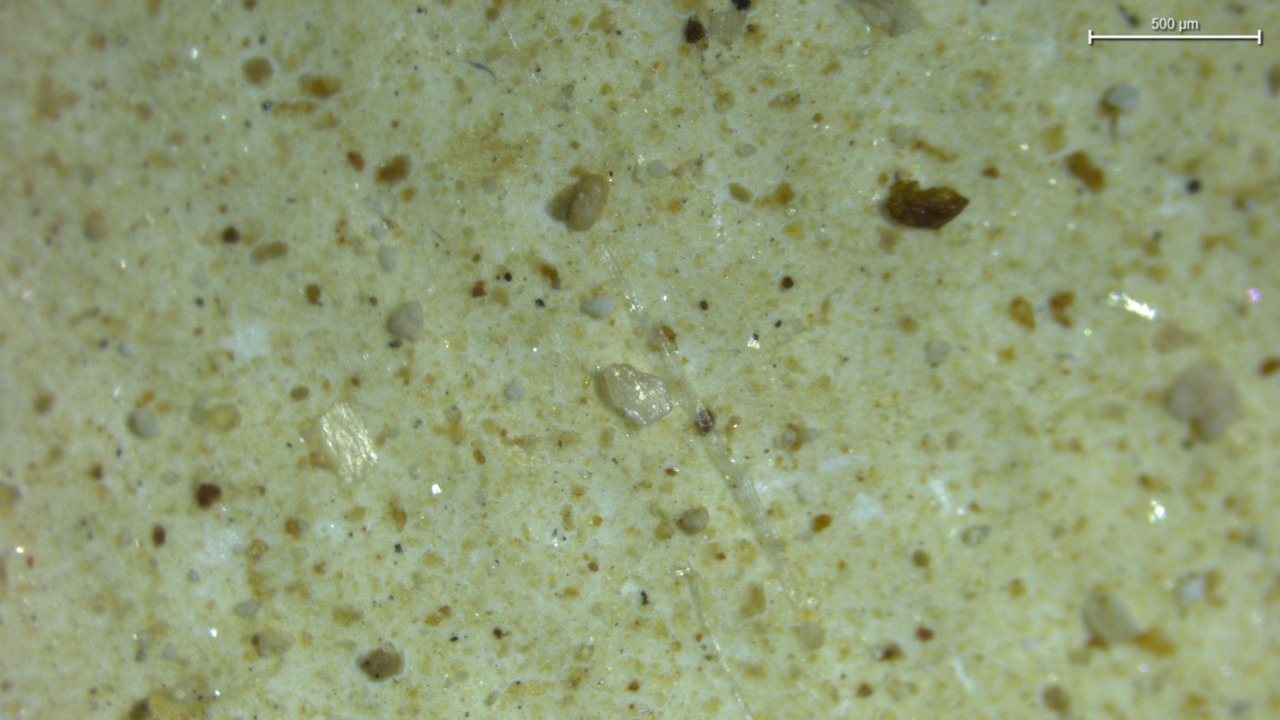microplastic_fragment: (319, 402, 378, 480), (597, 365, 672, 425), (566, 172, 613, 230), (387, 302, 423, 341), (677, 507, 709, 534), (582, 296, 616, 318)
